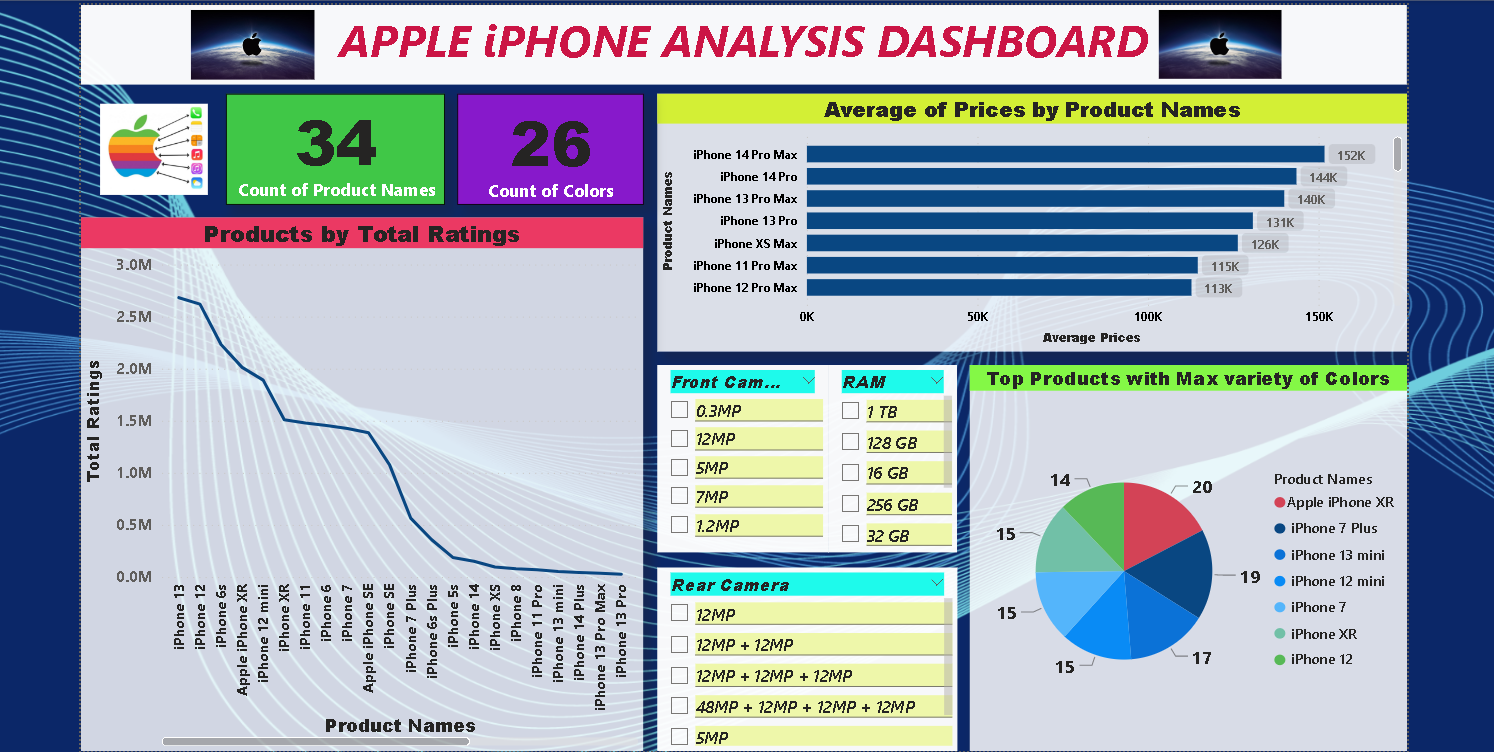

This screenshot's page, from the dashboard's own definition file:
{"tool":"powerbi","page":{"name":"Page 1","canvas":[1280,720],"ordinal":0},"visuals":[{"type":"clusteredBarChart","fields":{"Category":["FLIPCART_iPHONES_WEB_SCRAPPING.Product Names"],"Y":["Avg(FLIPCART_iPHONES_WEB_SCRAPPING.Prices)"]},"box":[556,85.6,723.6,248.4],"z":0},{"type":"textbox","box":[0,0,1279.6,77.2],"z":1000},{"type":"card","fields":{"Values":["Count(FLIPCART_iPHONES_WEB_SCRAPPING.Product Names)"]},"box":[139.9,85.6,211.1,107.3],"z":2000},{"type":"card","fields":{"Values":["Count(FLIPCART_iPHONES_WEB_SCRAPPING.Colors)"]},"box":[363,85.6,179.7,107.3],"z":3000},{"type":"lineChart","title":" Products by Total Ratings","fields":{"Category":["FLIPCART_iPHONES_WEB_SCRAPPING.Product Names"],"Y":["Sum(FLIPCART_iPHONES_WEB_SCRAPPING.Ratings)"]},"box":[0,205,542.7,515],"z":4000},{"type":"image","box":[125.4,0,111,77.2],"z":5000},{"type":"image","box":[0,90.5,139.9,97.7],"z":6000},{"type":"image","box":[94.1,0,142.3,77.2],"z":7000},{"type":"image","box":[1019.1,0,159.2,76],"z":8000},{"type":"slicer","fields":{"Values":["FLIPCART_iPHONES_WEB_SCRAPPING.Front Camera"]},"box":[556,347.3,165.2,180.9],"z":9000},{"type":"slicer","fields":{"Values":["FLIPCART_iPHONES_WEB_SCRAPPING.Rear Camera"]},"box":[556,542.7,289.4,177.3],"z":10000},{"type":"slicer","fields":{"Values":["FLIPCART_iPHONES_WEB_SCRAPPING.RAM"]},"box":[721.2,347.3,124.2,180.9],"z":11000},{"type":"pieChart","title":"Top Products with Max variety of Colors","fields":{"Category":["FLIPCART_iPHONES_WEB_SCRAPPING.Product Names"],"Y":["CountNonNull(FLIPCART_iPHONES_WEB_SCRAPPING.Colors)"]},"box":[857.5,347.3,422.1,372.7],"z":12000}]}

Visuals, with their boxes in screenshot pixels (x1, y1, x2, y2):
clusteredBarChart - FLIPCART_iPHONES_WEB_SCRAPPING.Product Names x Avg(FLIPCART_iPHONES_WEB_SCRAPPING.Prices): BBox(657, 88, 1402, 344)
textbox: BBox(86, 0, 1402, 79)
card - Count(FLIPCART_iPHONES_WEB_SCRAPPING.Product Names): BBox(229, 88, 447, 198)
card - Count(FLIPCART_iPHONES_WEB_SCRAPPING.Colors): BBox(459, 88, 644, 198)
" Products by Total Ratings" lineChart: BBox(86, 211, 644, 741)
image: BBox(215, 0, 329, 79)
image: BBox(86, 93, 229, 194)
image: BBox(182, 0, 329, 79)
image: BBox(1134, 0, 1297, 78)
slicer - FLIPCART_iPHONES_WEB_SCRAPPING.Front Camera: BBox(657, 357, 827, 543)
slicer - FLIPCART_iPHONES_WEB_SCRAPPING.Rear Camera: BBox(657, 558, 955, 741)
slicer - FLIPCART_iPHONES_WEB_SCRAPPING.RAM: BBox(827, 357, 955, 543)
"Top Products with Max variety of Colors" pieChart: BBox(968, 357, 1402, 741)
